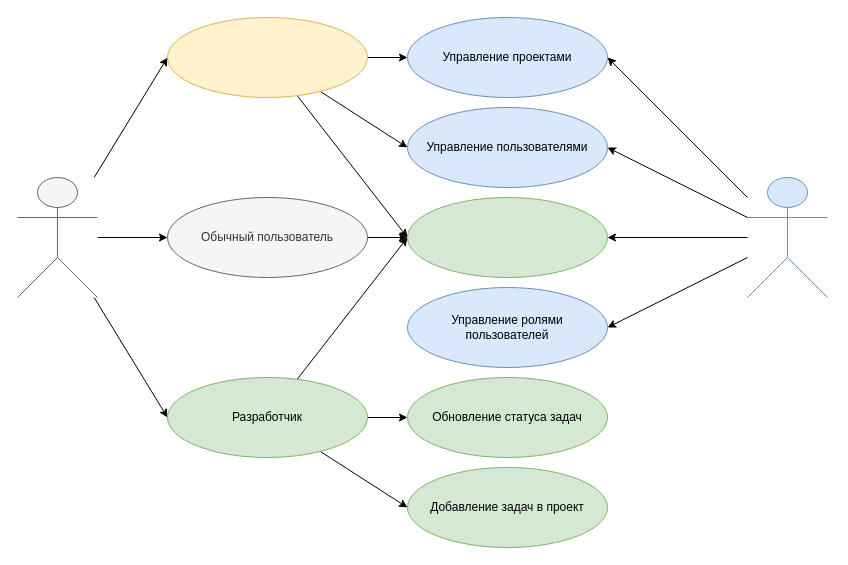
The diagram is 848 pixels wide and 565 high, and some of its shapes have lost their labels. The shapes that lost their labels are listed below. From the top down, each one's centre as x and y in pixels, then its label:
At (x=267, y=57): "Менеджер".
At (x=57, y=237): "Пользователь системы".
At (x=507, y=237): "Просмотр информации о проекте".
At (x=787, y=237): "Администратор".
